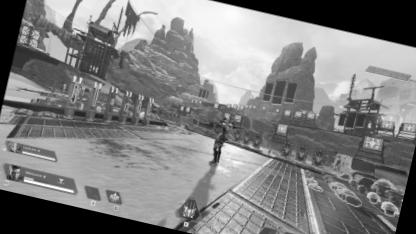Target: (208, 115, 232, 166)
